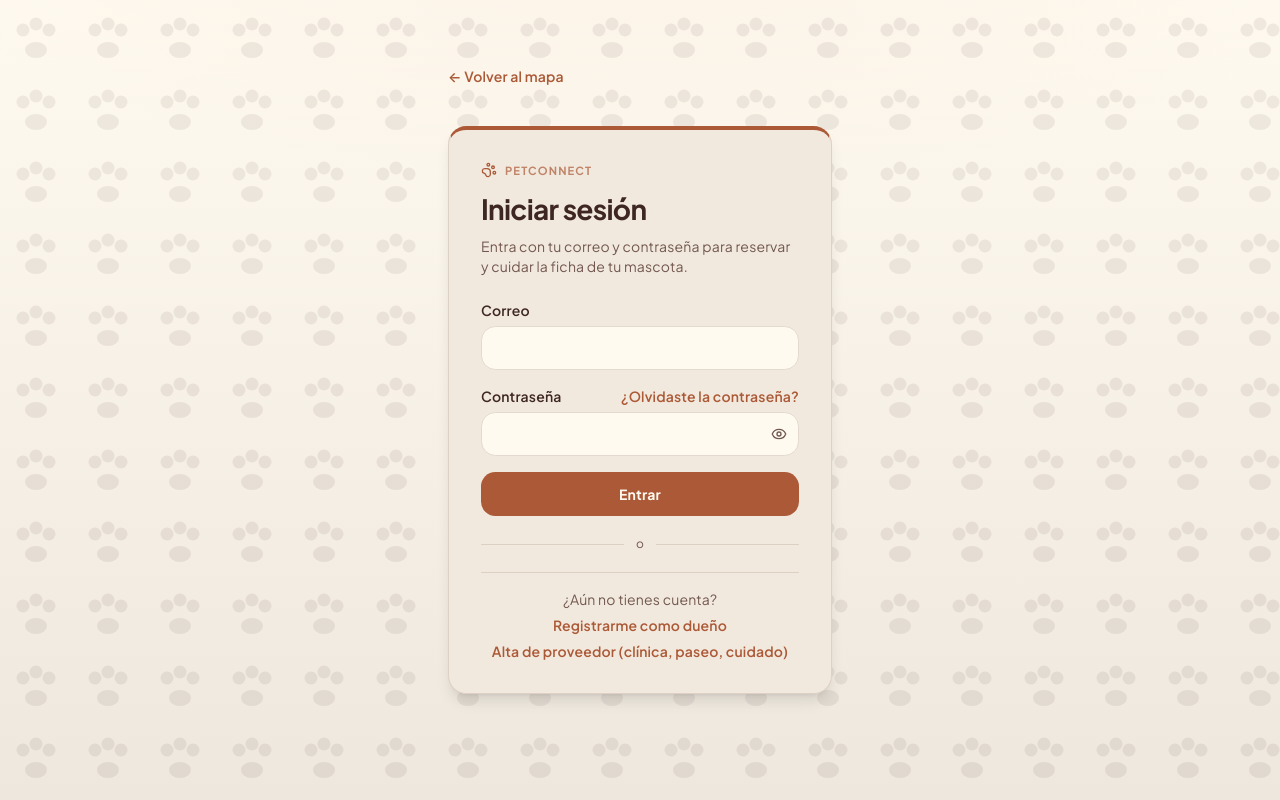
Test case: LoginPage › muestra error si el login falla
The image size is (1280, 800).
Type "dueno@test.com" into the field labelled "Correo" at (640, 348), box [481,326,799,370]
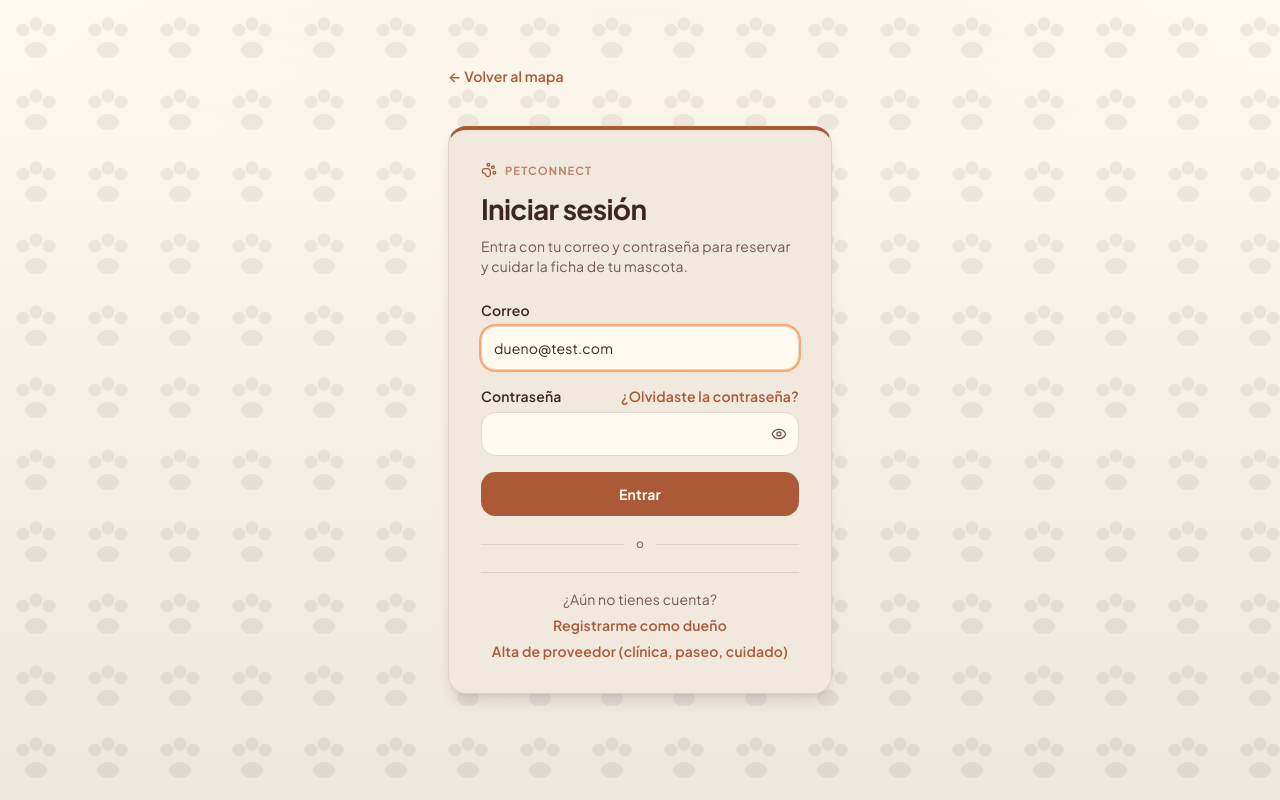
Type "mala-clave" into the password field labelled "Contraseña" at (640, 434), box [481,412,799,456]
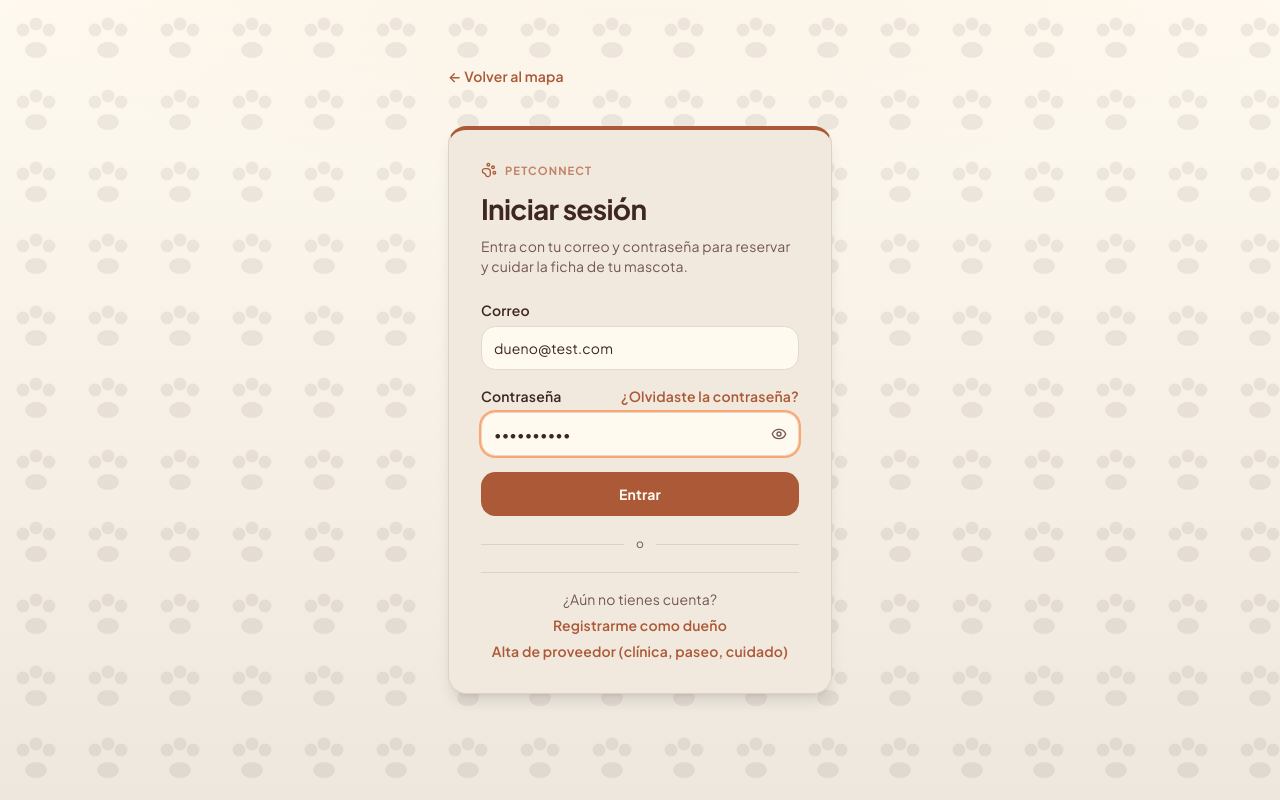
Click the button "Entrar" at (640, 494), box [481,472,799,516]
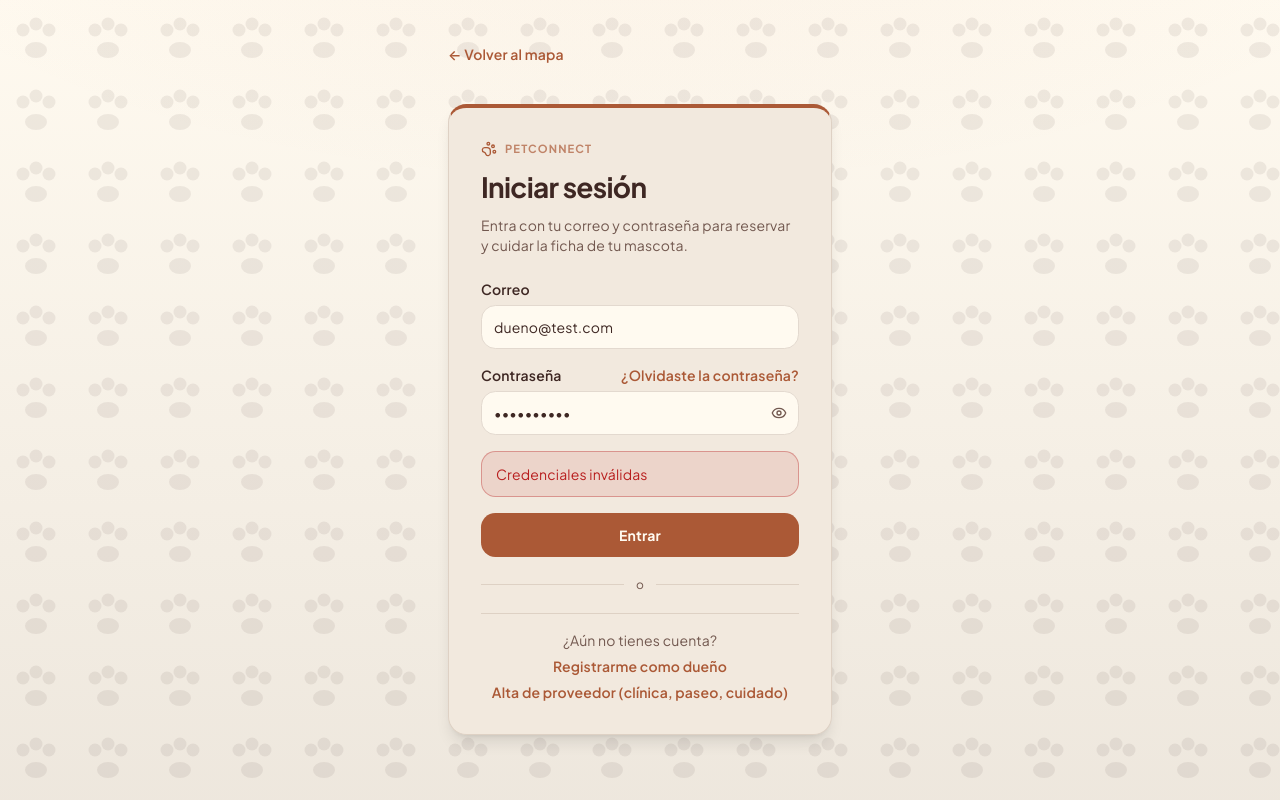
Expected: the message reads "Credenciales inválidas", [496,465,648,483]
